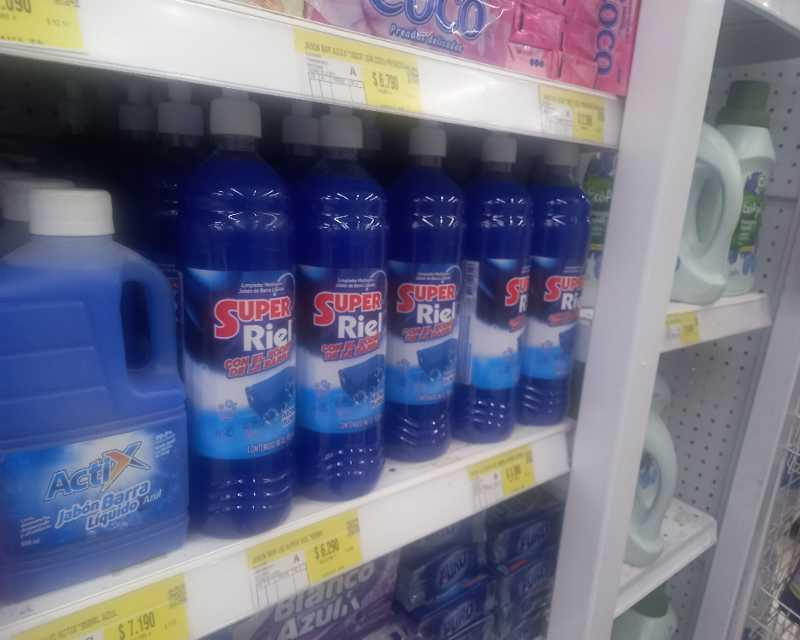REY-BOTELLA-2L: (2, 186, 189, 607)
SUPER-RIEL-AZUL-BOTELLA-925_50: (176, 98, 302, 541), (293, 101, 391, 499), (451, 124, 522, 443), (398, 110, 457, 466), (524, 136, 582, 426)
